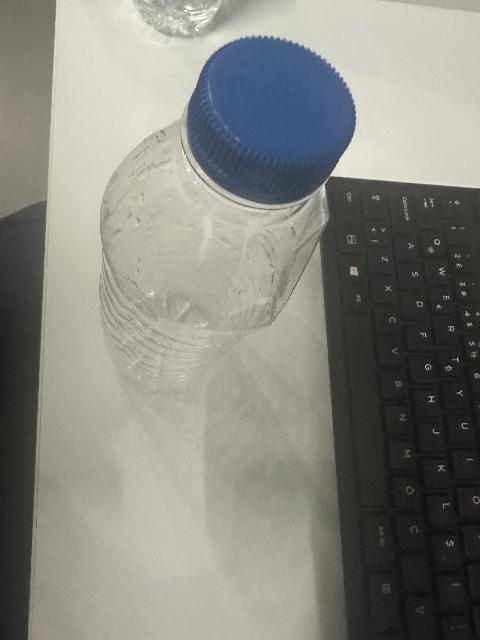Plastik: (103, 40, 365, 390), (122, 0, 229, 40)
